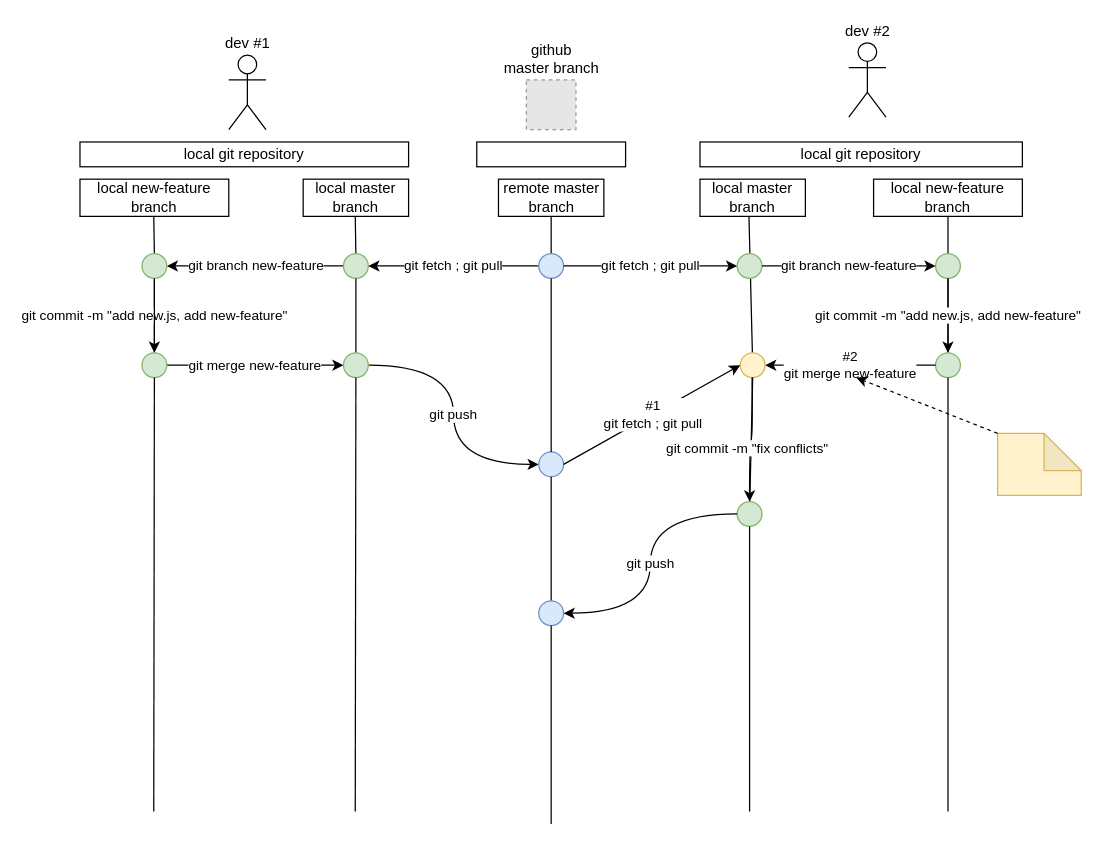
The diagram is 1102 pixels wide and 847 high, and some of its shapes have lost their labels. Grey dashed boxes stand in for pictures. The centre of each missing label's shape, as x and y in pixels:
"conflicts" belongs at [1038,463].
"remote repository" belongs at [551,154].
